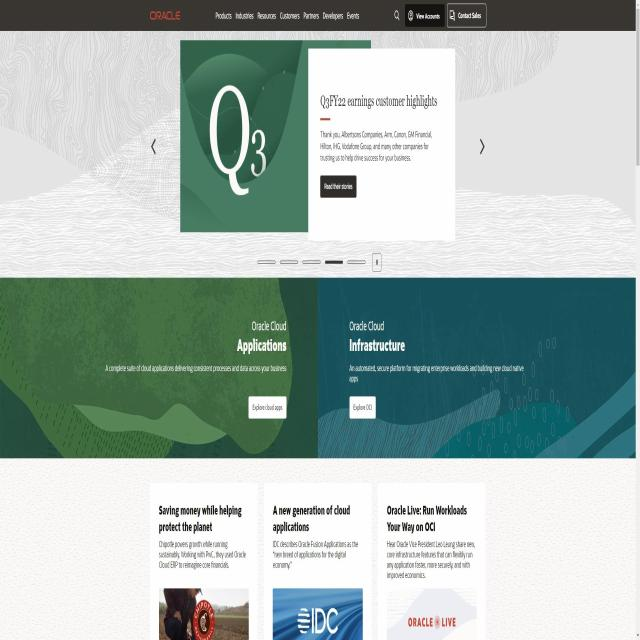button: (320, 173, 357, 199), (248, 395, 287, 419), (351, 394, 376, 422)
